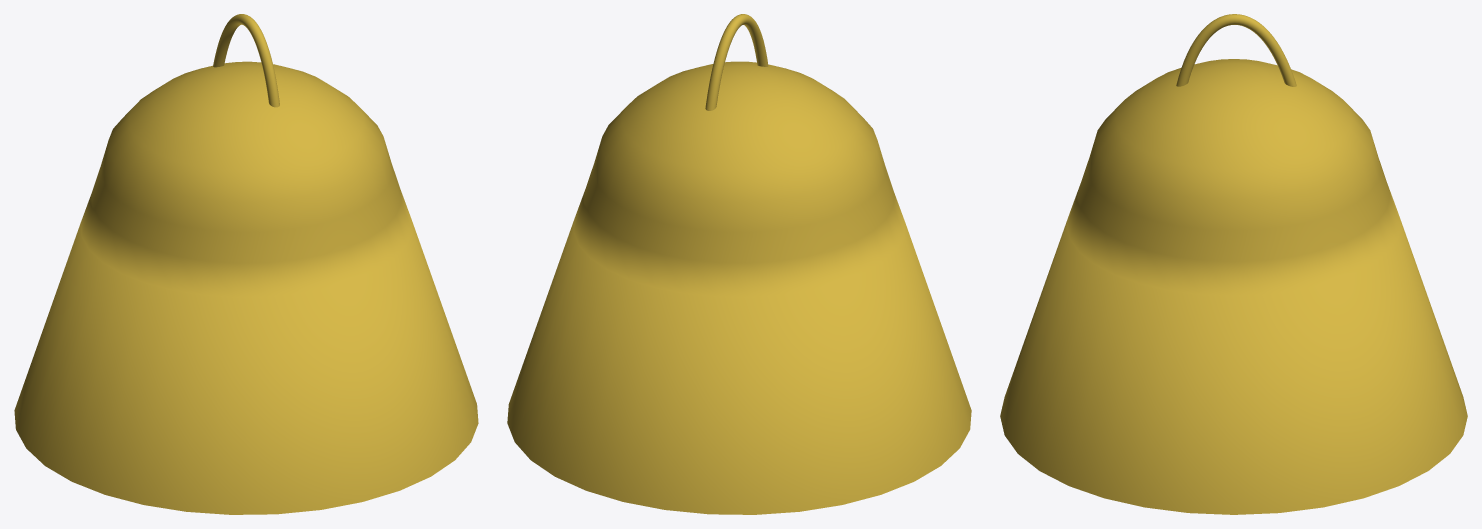
Rendered from Bell.fbx.
The picture shows the model from 3 angles, left to right: view 1: azimuth 30°, elevation 25°; view 2: azimuth 150°, elevation 25°; view 3: azimuth 270°, elevation 25°; orthographic projection.
Parts seen in each view (by area): view 1: Sphere, NurbsPath; view 2: Sphere, NurbsPath; view 3: Sphere, NurbsPath.
Boxes of the visible parts, bbox=[...] form: Sphere: bbox=[14, 61, 478, 514]; NurbsPath: bbox=[213, 14, 279, 107]; Sphere: bbox=[507, 61, 971, 514]; NurbsPath: bbox=[705, 14, 768, 110]; Sphere: bbox=[1000, 59, 1467, 514]; NurbsPath: bbox=[1176, 14, 1296, 86].
Size of the model in its own units: 2.8 by 2.65 by 2.8.
